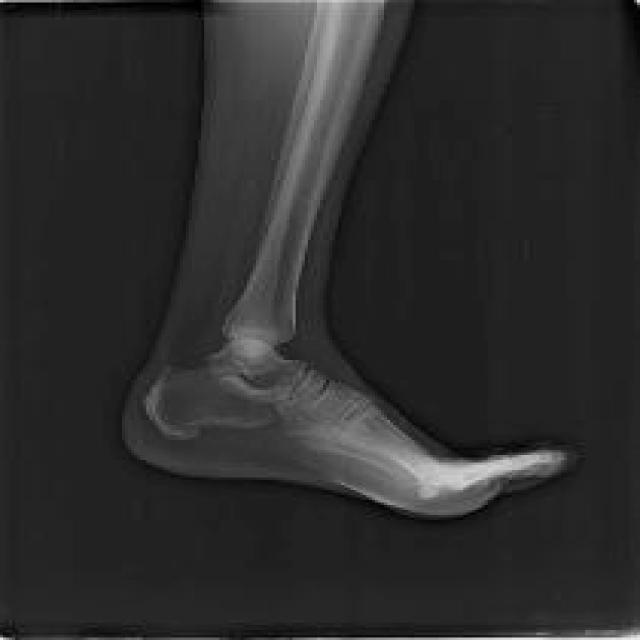normal: (145, 0, 568, 513)
